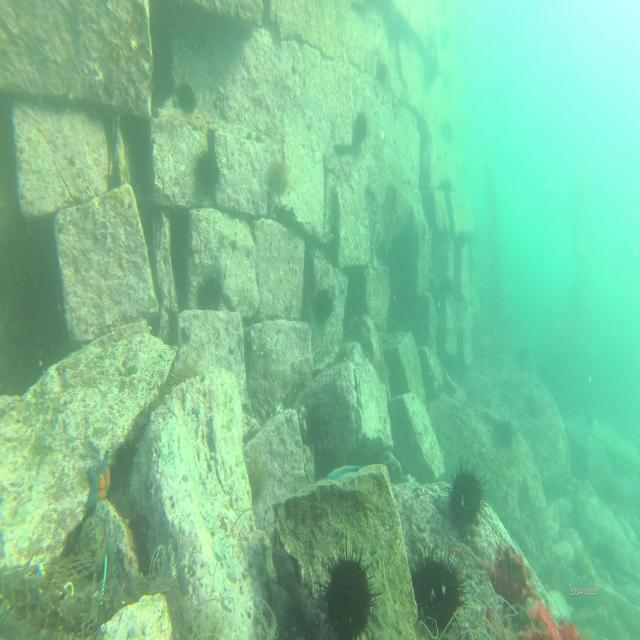echinus: (309, 530, 386, 640), (399, 539, 473, 628), (446, 458, 493, 544), (192, 141, 225, 201), (265, 149, 293, 196), (194, 270, 223, 313), (313, 284, 337, 328), (178, 77, 198, 125), (352, 107, 370, 147)
starfish: (86, 450, 112, 526)
